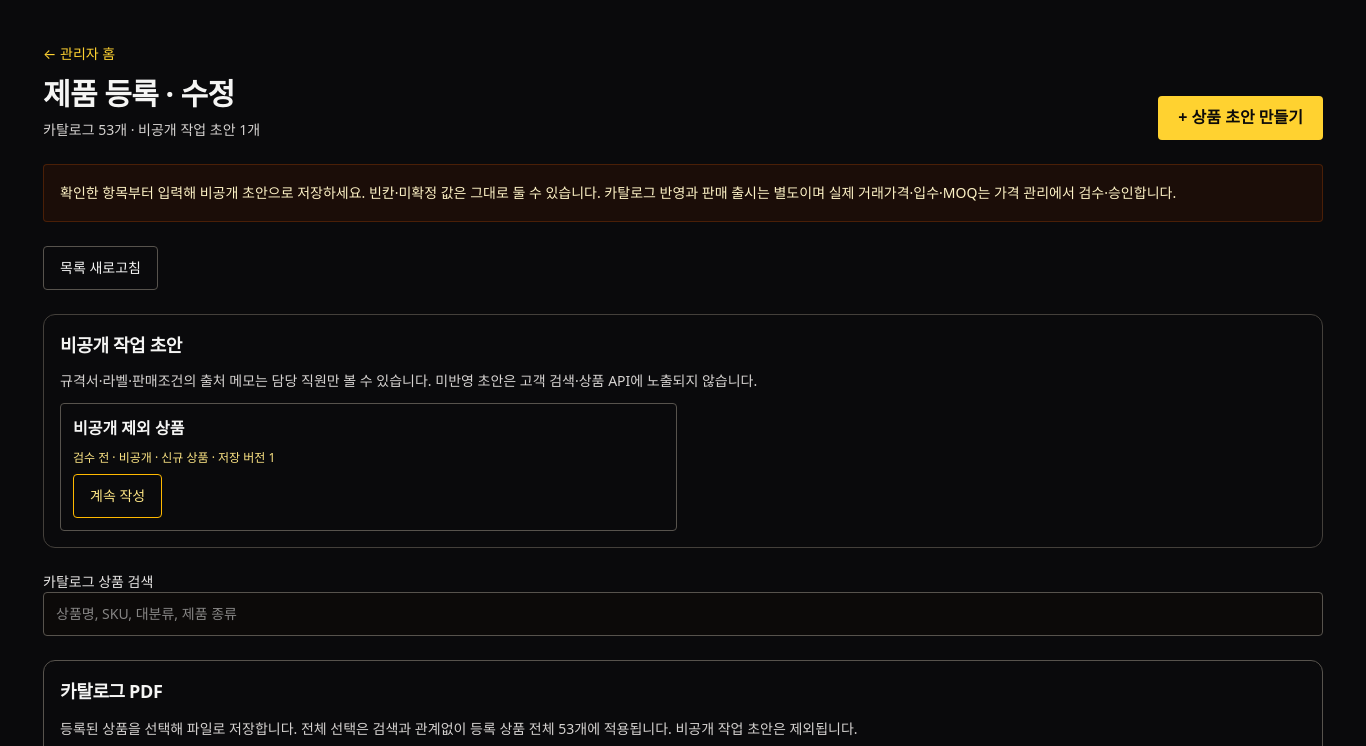
Test: selecting all exports the entire 53-product catalogue despite an active search and excludes private drafts
Step 1. Type "선택 대상 하나" into the field labelled "카탈로그 상품 검색" → (683, 614), box [43,592,1323,636]
(page scrolled)
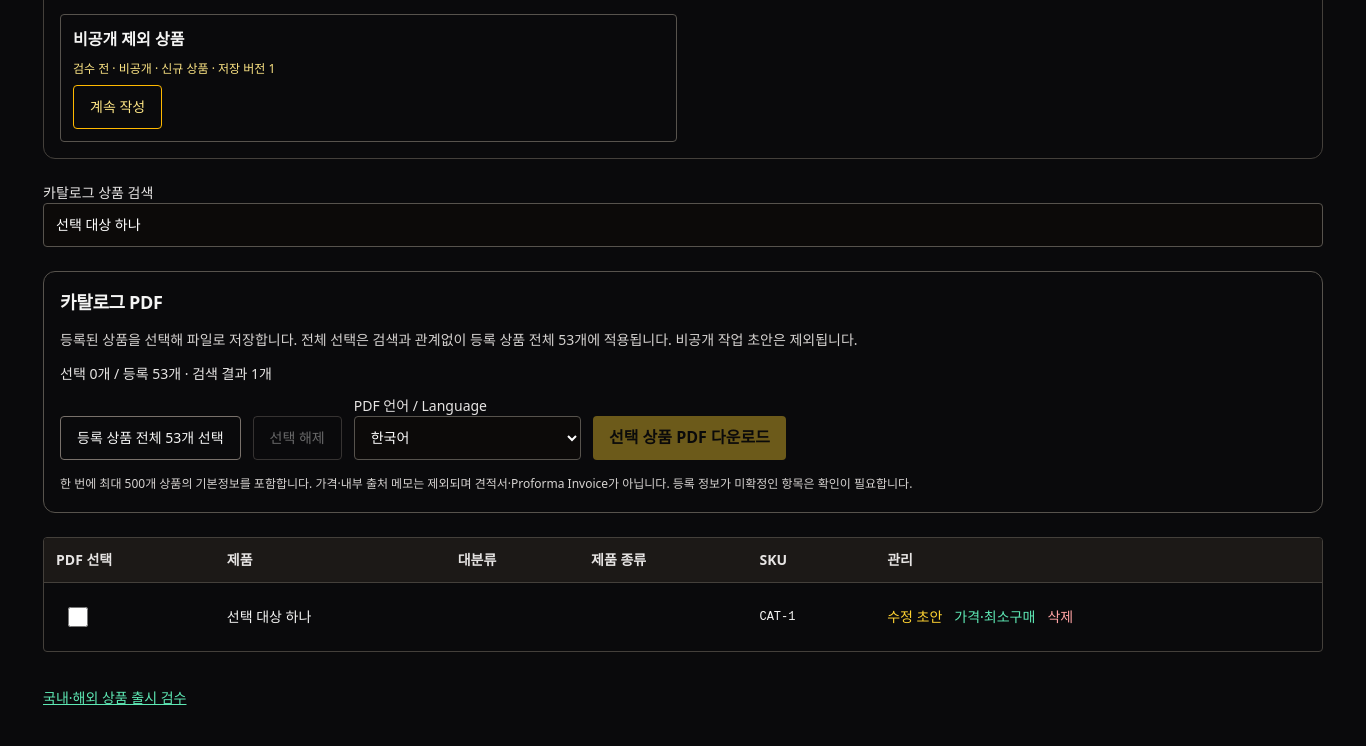
Expected: the number of checkboxes is 1, [68,607,88,627]
Step 2. Click the button "등록 상품 전체 53개 선택" → (150, 438), box [60,416,240,460]
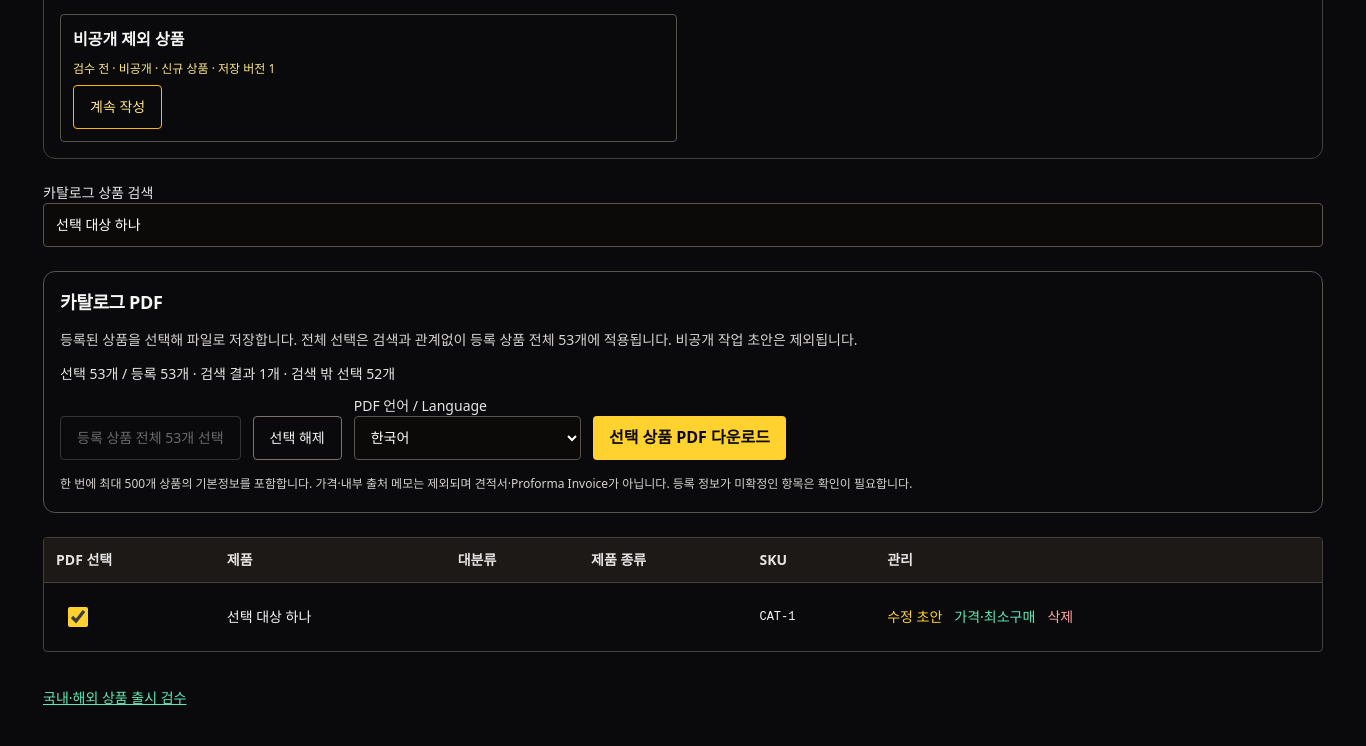
Expected: the element "카탈로그 PDF" shows "선택 53개 / 등록 53개 · 검색 결과 1개 · 검색 밖 선택 52개", [43,271,1323,513]
Step 3. Select "English" in the dropdown labelled "PDF 언어 / Language" → (467, 438), box [354,416,581,460]
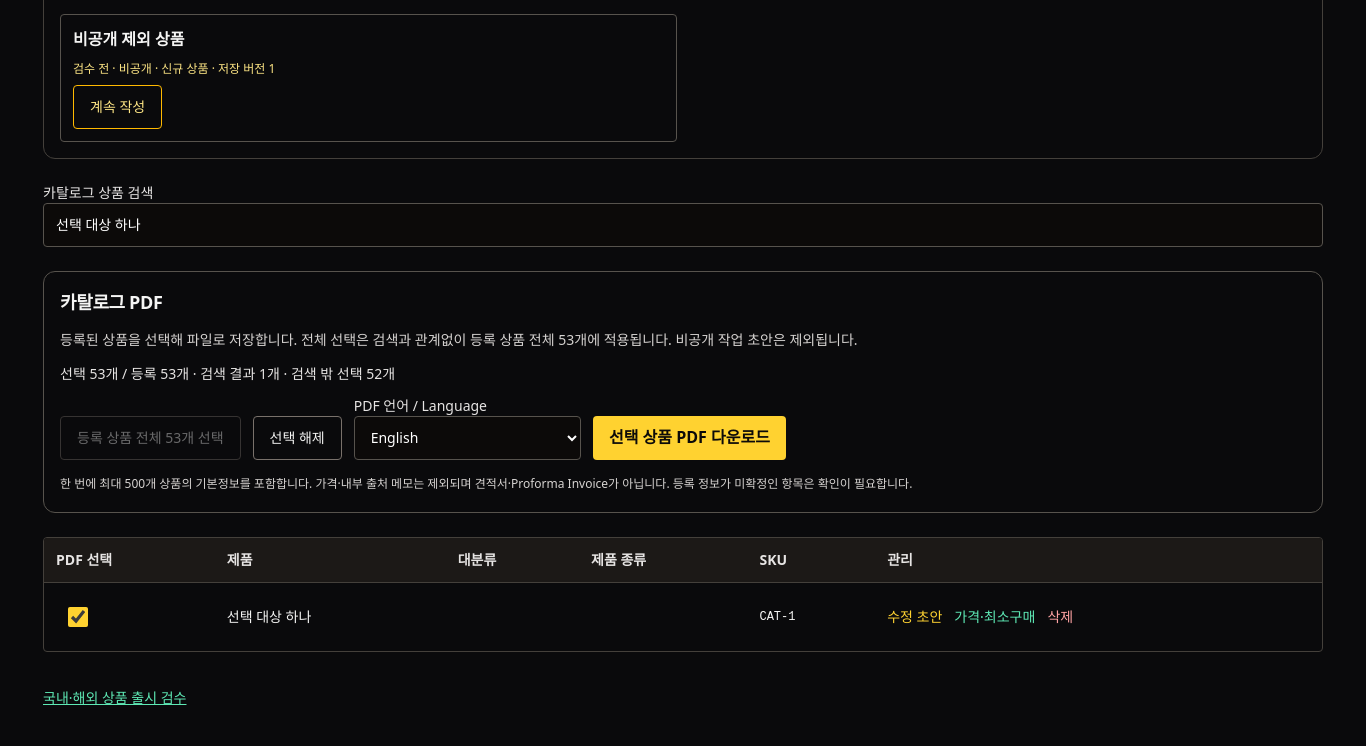
Step 4. Click the button "선택 상품 PDF 다운로드" → (689, 438), box [593,416,786,460]
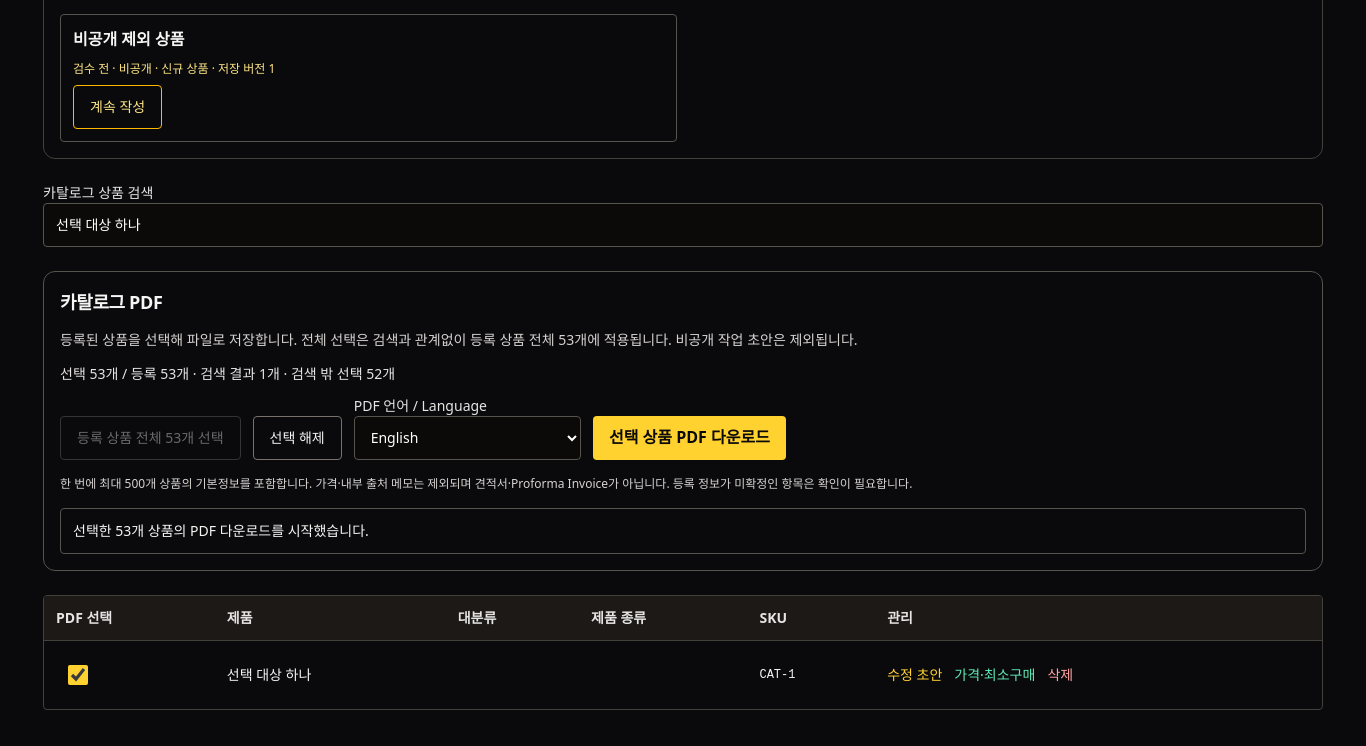
Expected: the text "선택한 53개 상품의 PDF 다운로드를 시작했습니다." is shown, [60,508,1306,554]
Step 5. Click the button "선택 해제" → (297, 438), box [252,416,342,460]
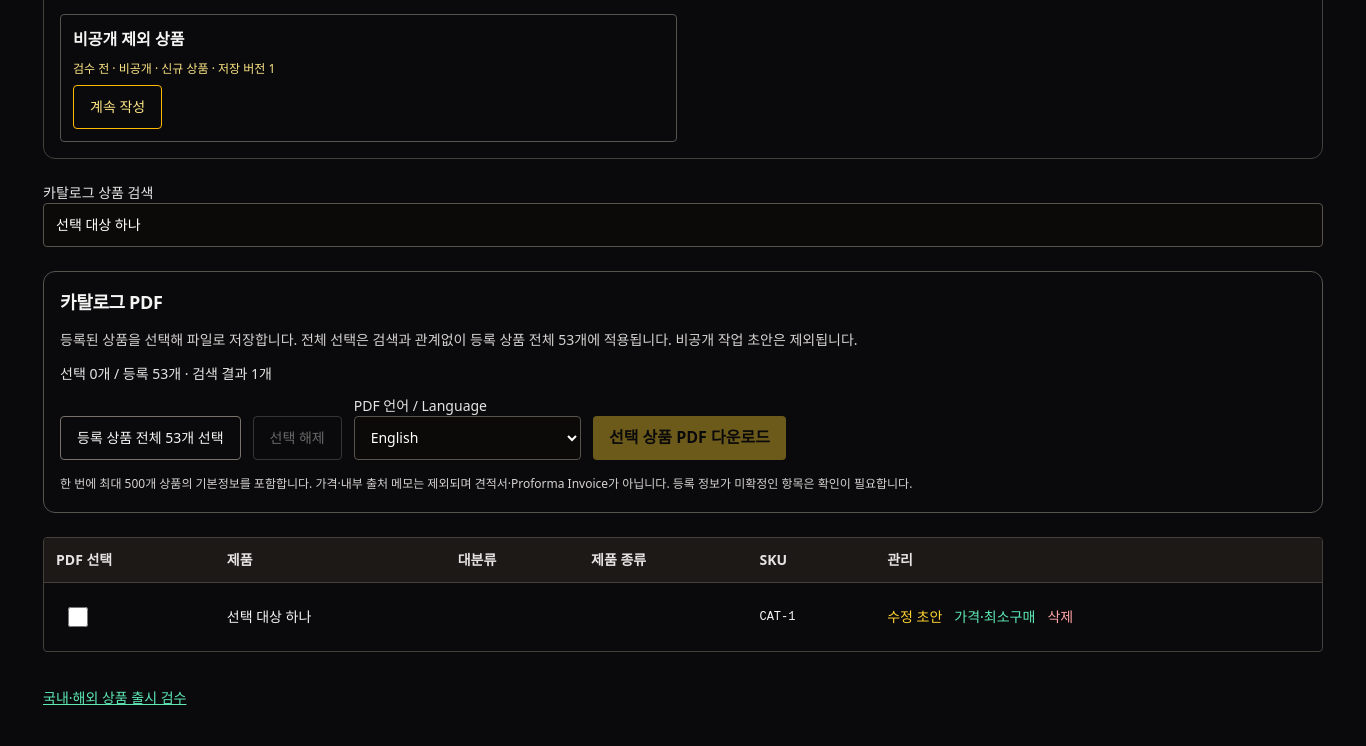
Expected: the button "선택 상품 PDF 다운로드" is disabled, [593,416,786,460]
Expected: the checkbox named "선택 대상 하나 PDF 선택" is not checked, [68,607,88,627]
